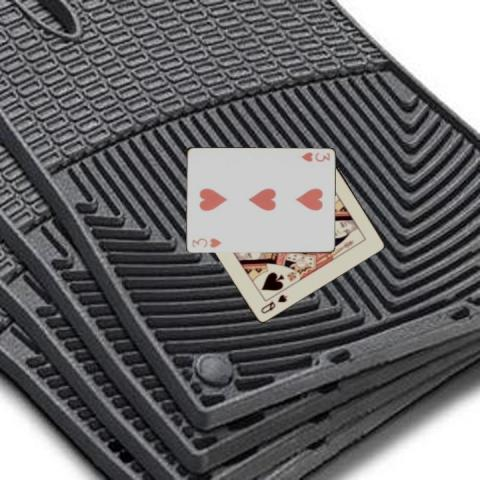3h: (189, 236, 223, 250), (298, 150, 330, 164)
Qs: (258, 291, 288, 315)
